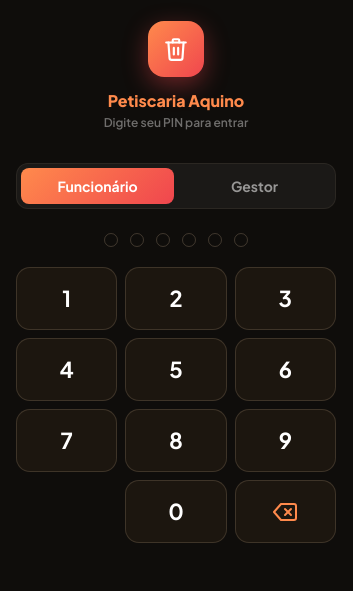
Scenario: TelaPin › mostra "PIN incorreto" e limpa o PIN quando o login falha
The image size is (353, 591).
What coordinates should you click on to do the following:
click the button "0"
I would click on:
 (176, 512)
Its box is [125,480,227,543].
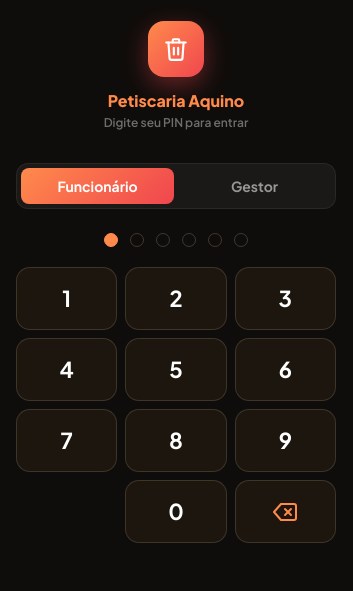
What coordinates should you click on to do the following:
click the button "0"
I would click on:
 (176, 512)
Its box is [125,480,227,543].
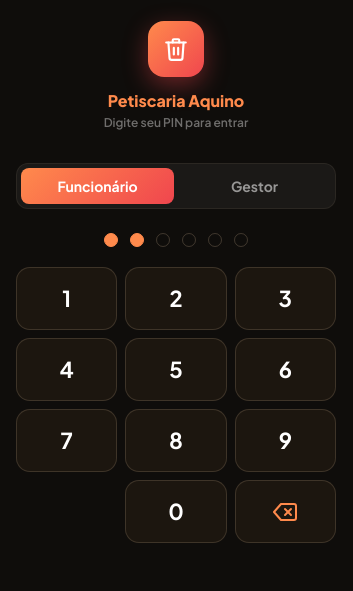
What coordinates should you click on to do the following:
click the button "0"
I would click on:
 (176, 512)
Its box is [125,480,227,543].
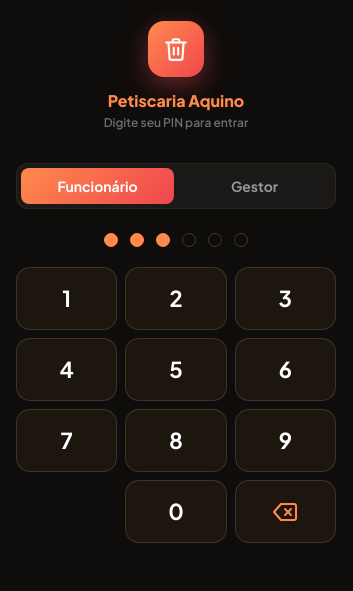
What coordinates should you click on to do the following:
click the button "0"
I would click on:
 (176, 512)
Its box is [125,480,227,543].
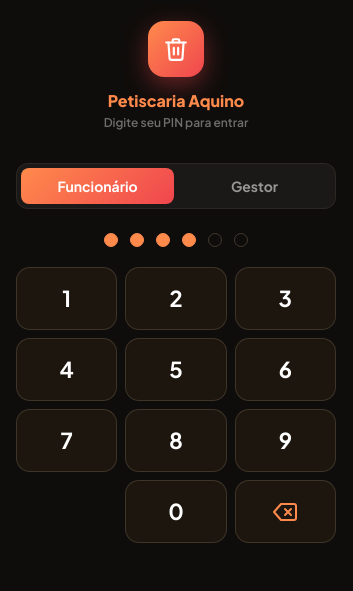
What coordinates should you click on to do the following:
click the button "0"
I would click on:
 (176, 512)
Its box is [125,480,227,543].
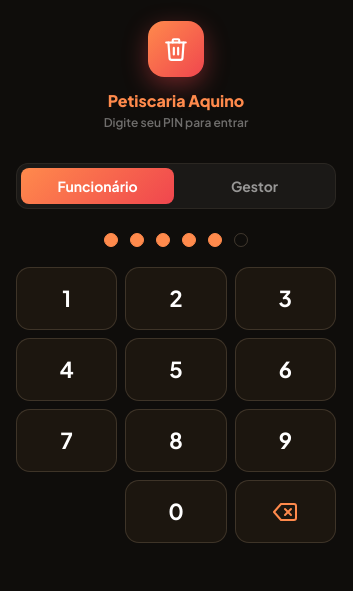
What coordinates should you click on to do the following:
click the button "0"
I would click on:
 (176, 512)
Its box is [125,480,227,543].
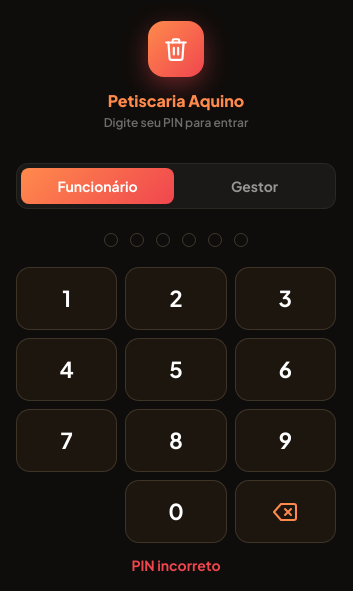
Expected: the text "PIN incorreto" is shown, [131,556,221,574]
